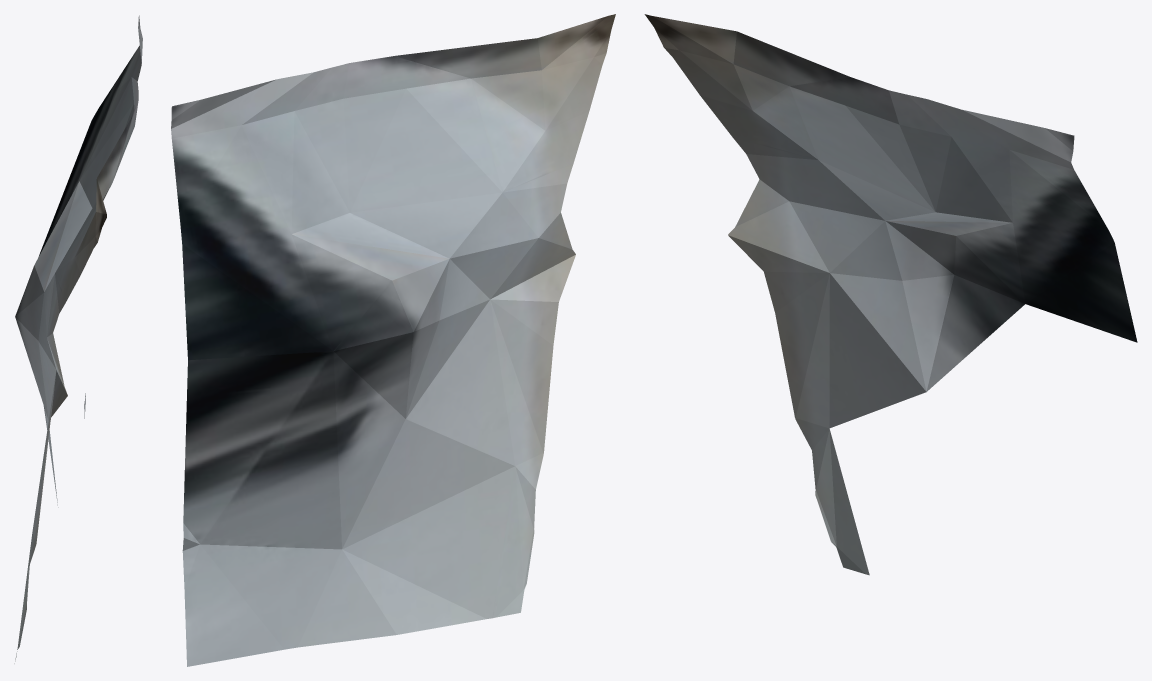
3 views of the same model, side by side, from view 1: azimuth 30°, elevation 25°; view 2: azimuth 150°, elevation 25°; view 3: azimuth 270°, elevation 25° (orthographic). The views are drawn at different scales.
Size of the model in its own units: 0.798 by 1.67 by 1.35.
Materials: 2 (2 with a texture image).
